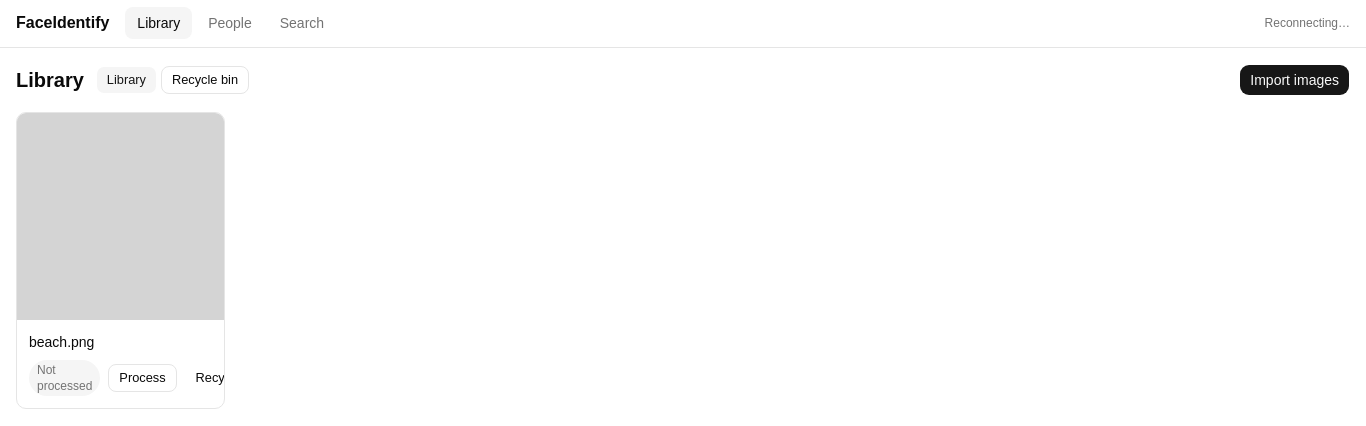
importing › moves an image to the recycle bin with one click and refreshes the library
Click the button with aria-label "Move beach.png to the recycle bin".
click(218, 378)  # box 185,364 -> 252,392
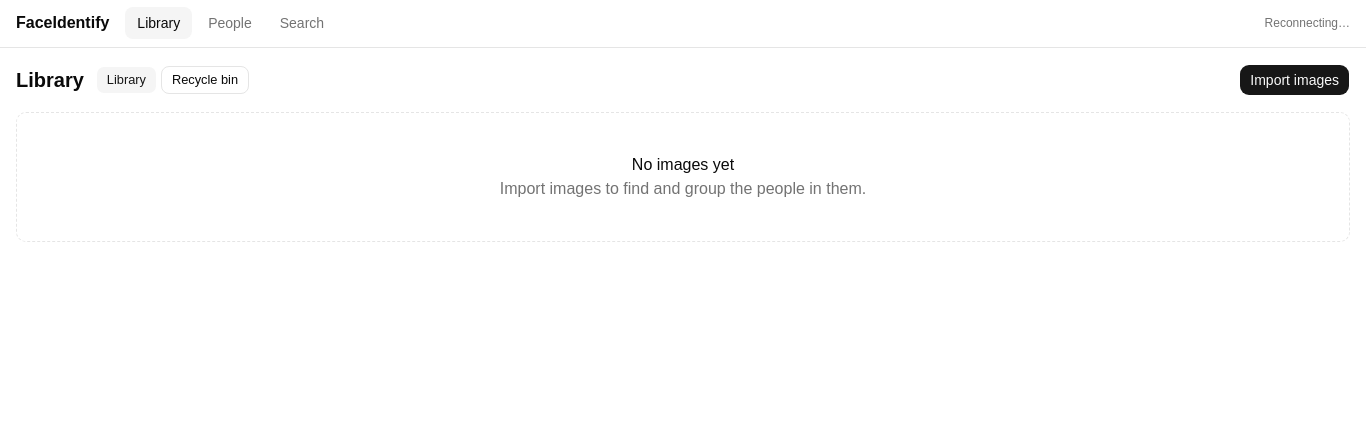
Check: the text "No images yet" is shown, box 632,156 -> 734,173
